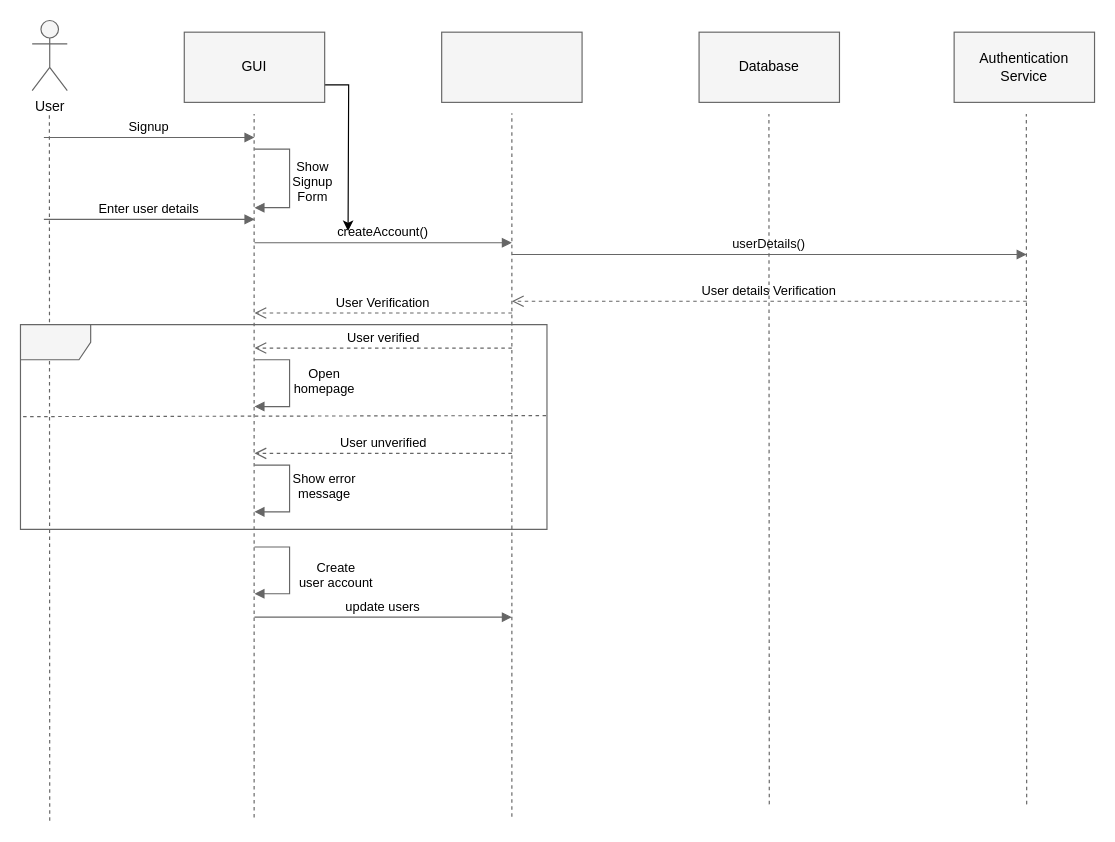
This 1115x842 diagram has some shape labels left out. The box of each missing label's shape, as (x1, y1, x2, y2) in pixels:
alt: (19, 324, 547, 529)
User Manager: (441, 31, 582, 102)
